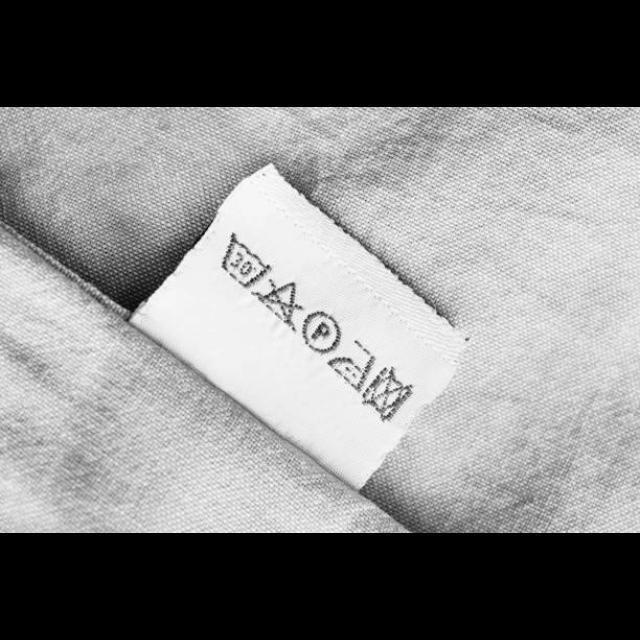30C: (218, 230, 274, 292)
DN_bleach: (248, 278, 310, 336)
DN_tumble_dry: (360, 366, 418, 426)
iron_medium: (326, 337, 378, 397)
normal_dry_clean_solvents: (300, 308, 344, 358)
